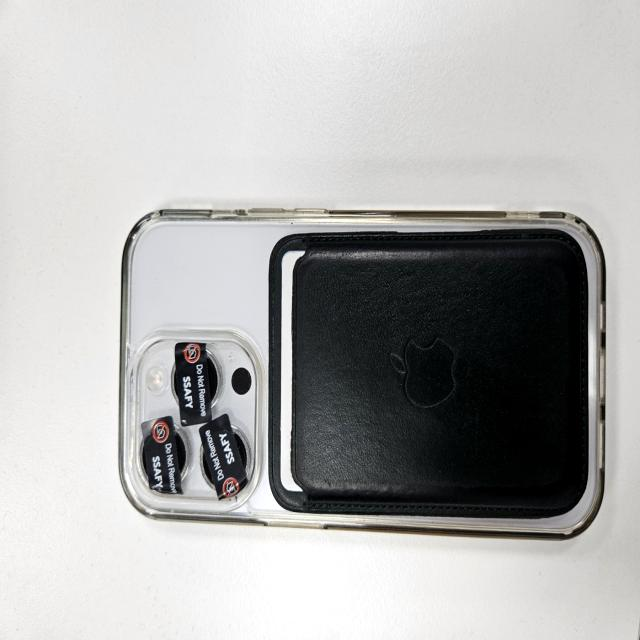phone: (118, 209, 610, 539)
sticker: (198, 413, 248, 500), (140, 414, 183, 496), (174, 343, 212, 427)
